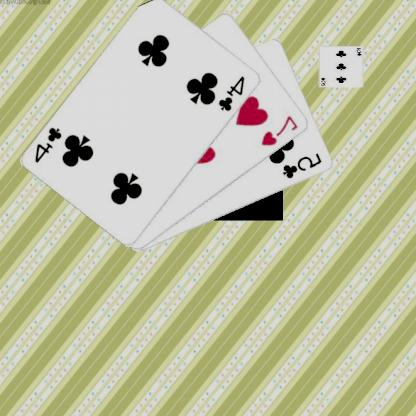4C: (218, 73, 249, 113), (34, 124, 65, 164)
5C: (282, 150, 326, 180)
7H: (260, 112, 302, 148)
